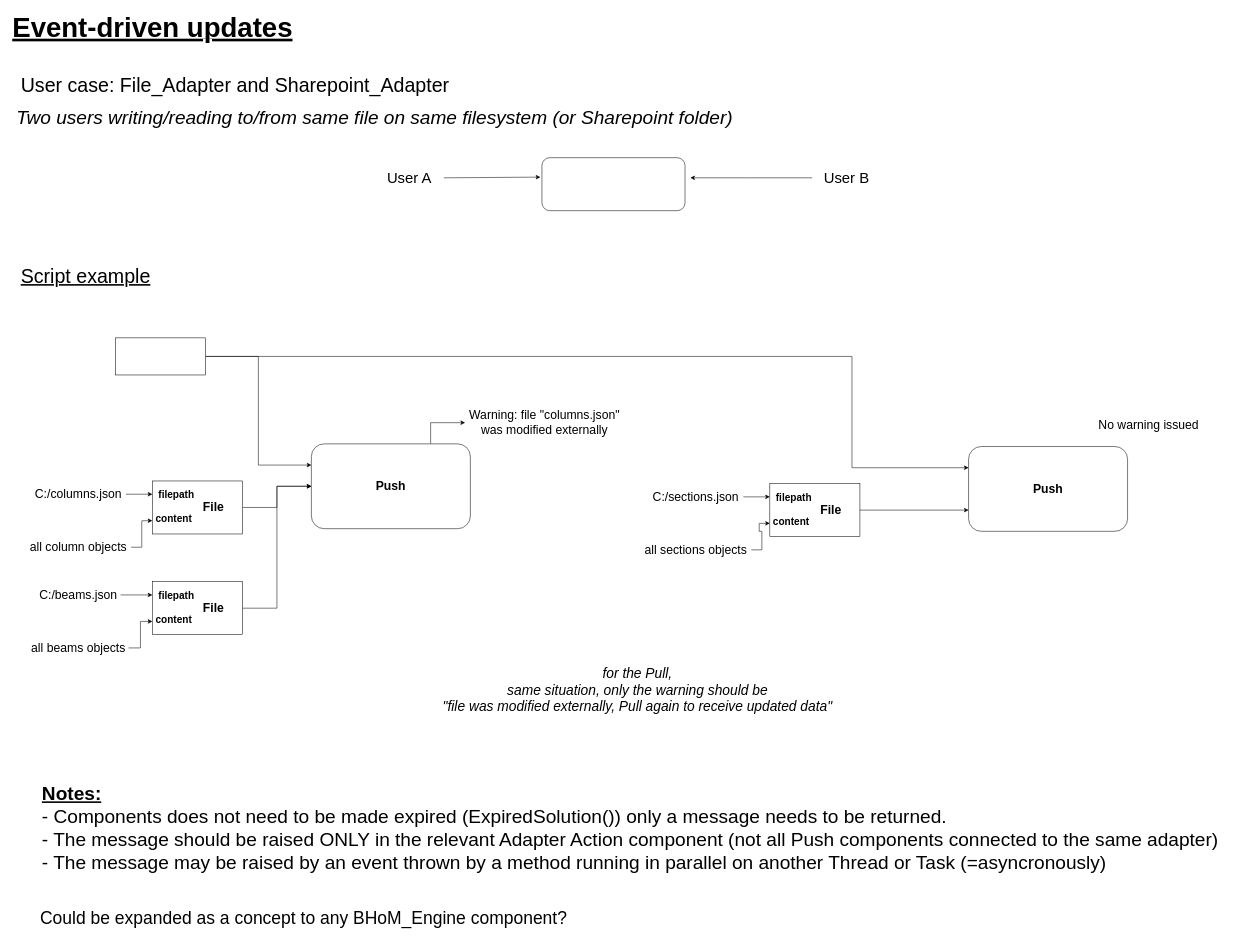
Image size: 1237x940. Some labels were removed from this diagram. Here are the shapes that lost their labels. From the top down, the centre of each, then its label:
At (x=613, y=184): "C:/columns.json (Serialized bhomobjects)".
At (x=160, y=356): "FileAdapter".
